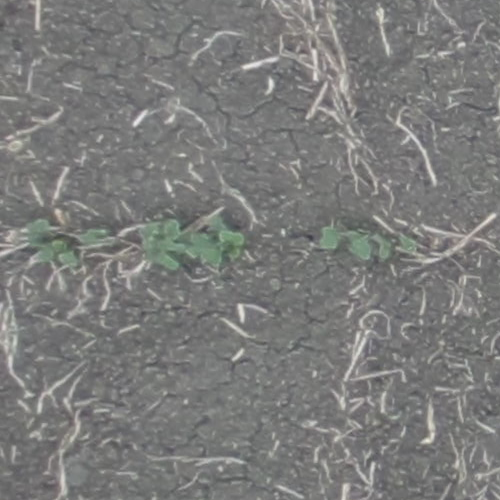clumped: (27, 218, 109, 268)
isolated: (189, 216, 245, 271), (138, 219, 186, 271), (319, 226, 372, 261), (373, 233, 417, 261)
